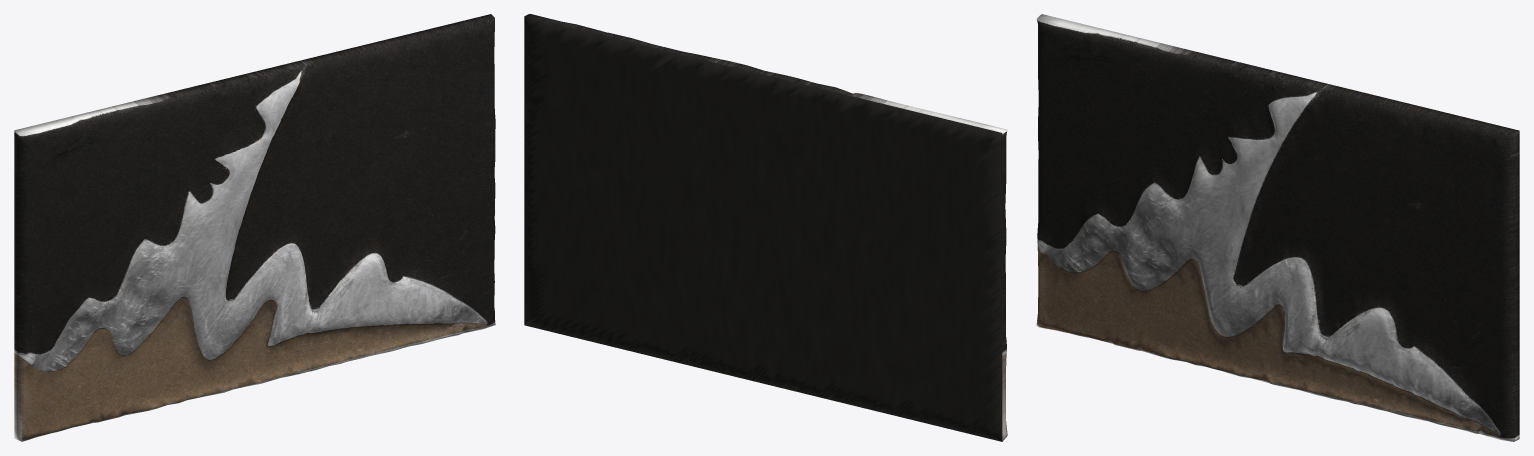
Rendered from hy3d-esc-001.glb.
The picture shows the model from 3 angles, left to right: view 1: azimuth 30°, elevation 25°; view 2: azimuth 150°, elevation 25°; view 3: azimuth 330°, elevation 25°; orthographic projection.
Visible parts, largest first — view 1: world; view 2: world; view 3: world.
Part boxes in pixels (box(x1,y1,x2,y2)): world: box(14, 14, 495, 441); world: box(524, 14, 1007, 441); world: box(1036, 14, 1519, 441).
Size of the model in its own units: 0.5831 by 0.36 by 0.0239.
Materials: 1 (1 with a texture image).
